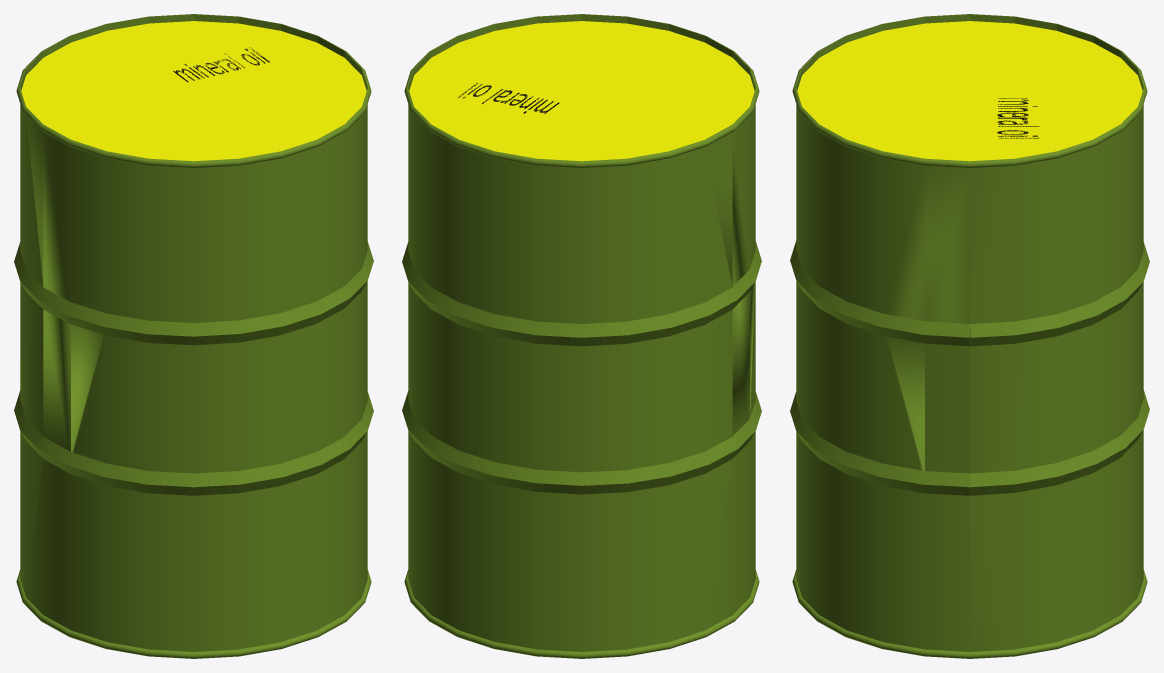
3 views of the same model, side by side, from view 1: azimuth 30°, elevation 25°; view 2: azimuth 150°, elevation 25°; view 3: azimuth 270°, elevation 25° (orthographic).
Visible parts, largest first — view 1: Model, mineral_oil1; view 2: Model, mineral_oil1; view 3: Model, mineral_oil1.
Boxes of the visible parts, bbox=[...] form: Model: bbox=[14, 14, 373, 658]; mineral_oil1: bbox=[173, 47, 269, 82]; Model: bbox=[402, 14, 761, 658]; mineral_oil1: bbox=[457, 83, 559, 113]; Model: bbox=[790, 14, 1149, 658]; mineral_oil1: bbox=[997, 98, 1039, 138].
Bounding box in the file's own units: 585 × 585 × 892.
